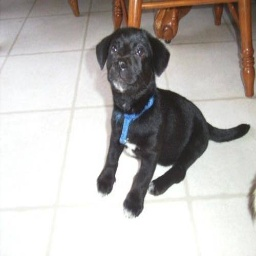dog: (88, 24, 250, 226)
